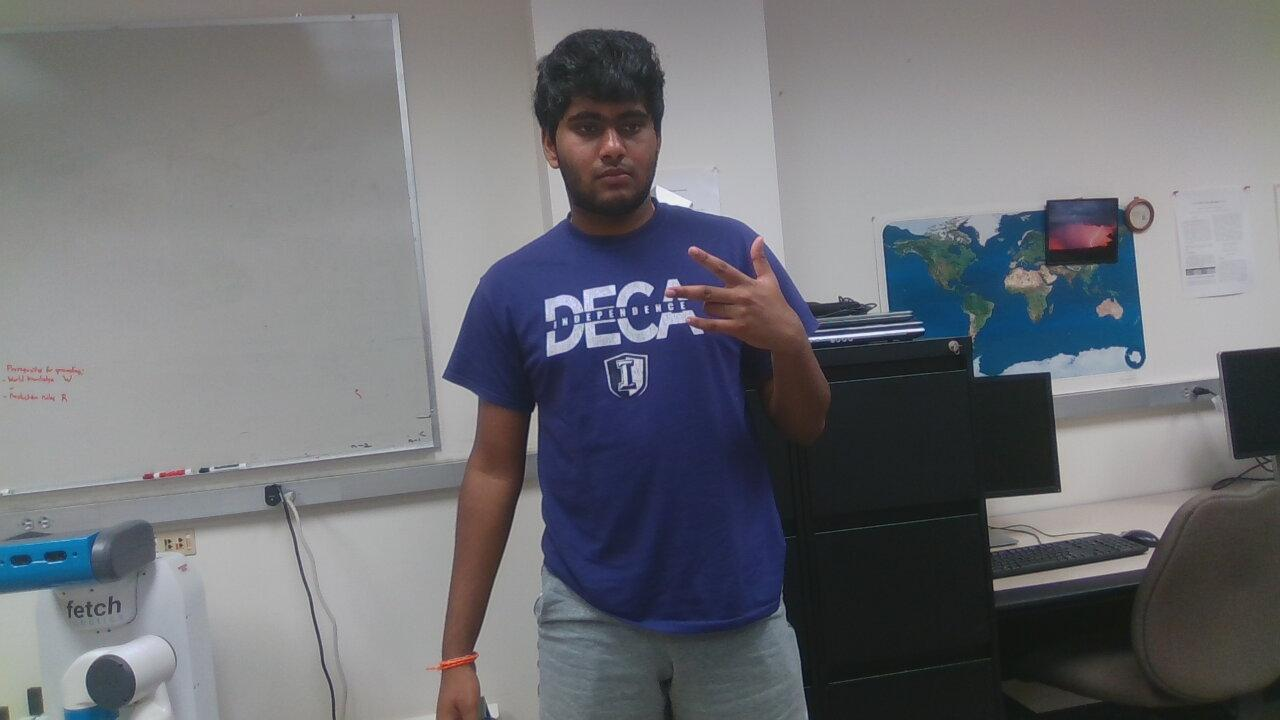hands: (668, 237, 820, 378)
